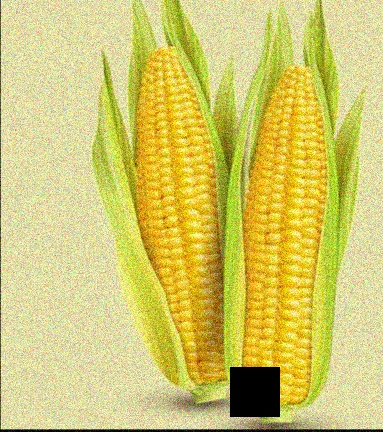corn: (122, 7, 242, 408), (227, 31, 342, 420)
